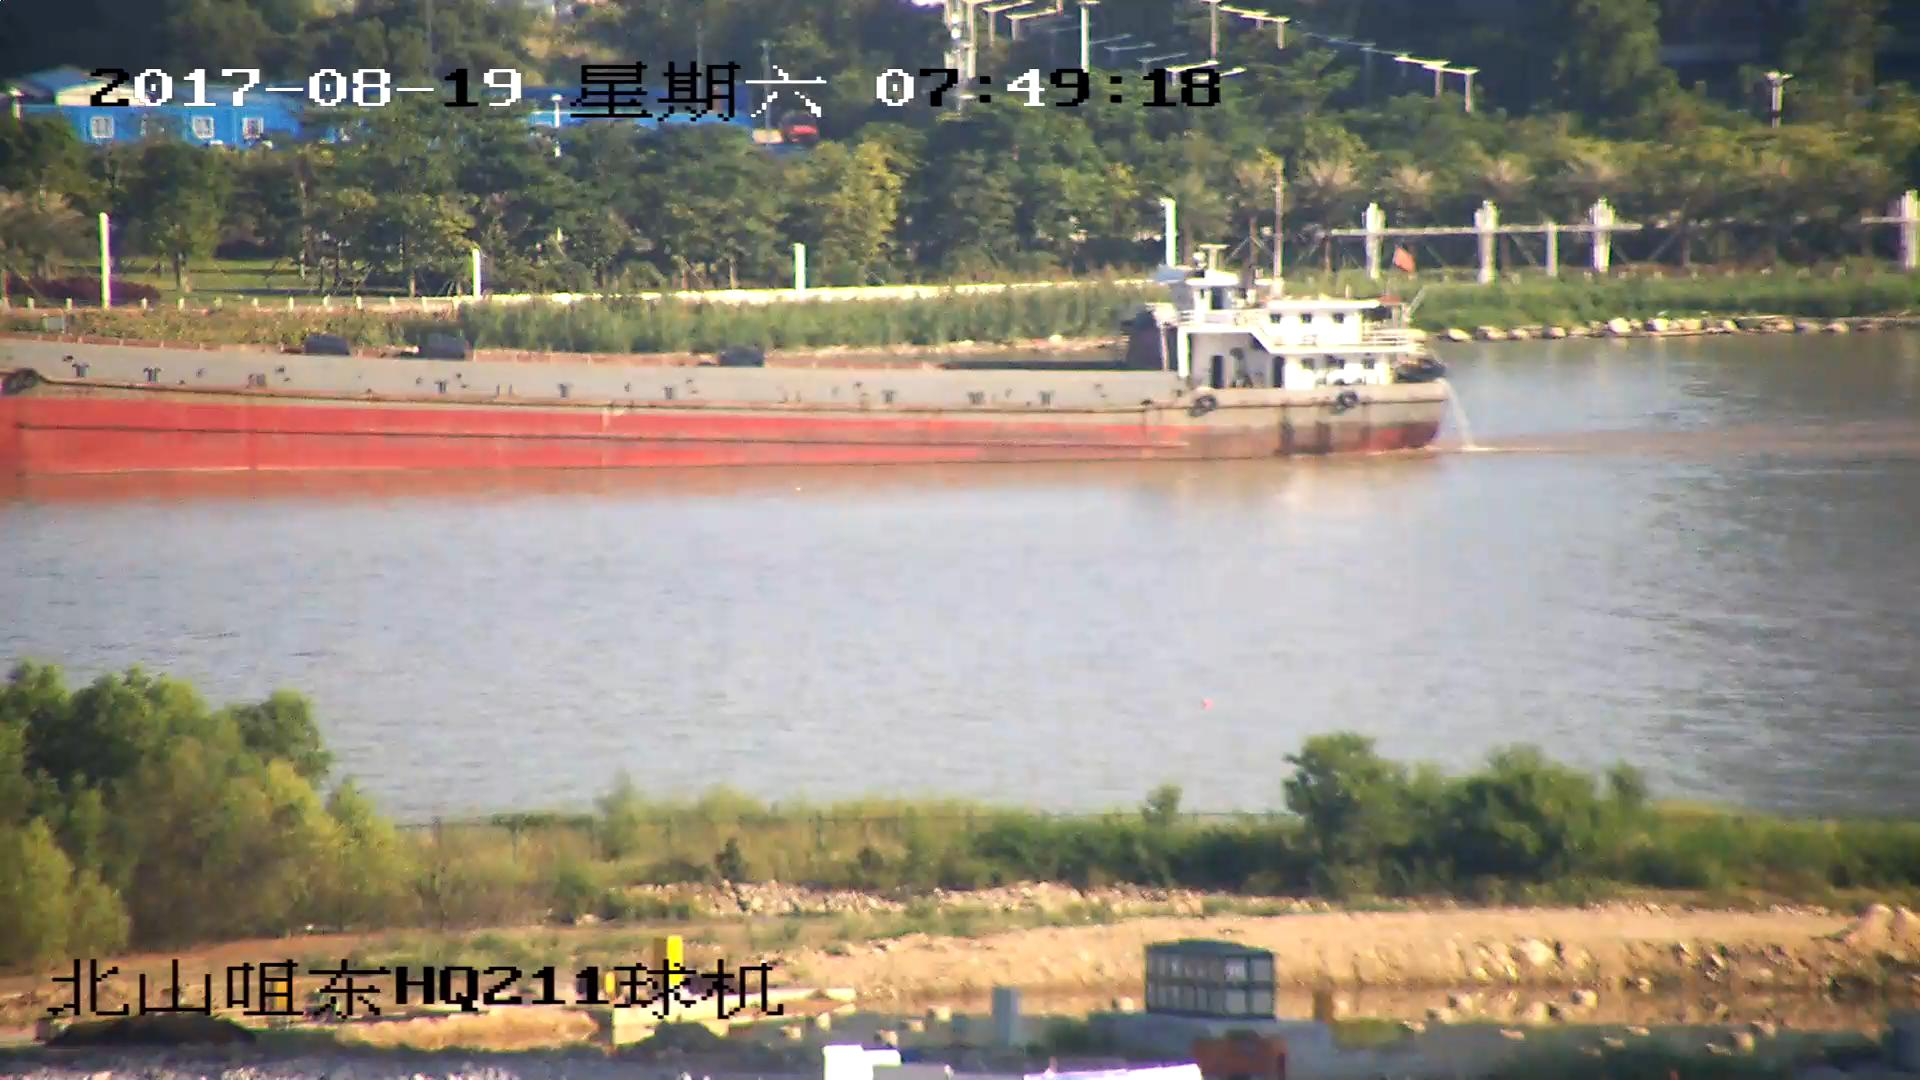bulk cargo carrier: (1, 250, 1451, 467)
